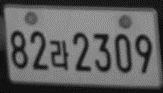0: (115, 33, 132, 73)
2: (72, 31, 91, 71), (29, 30, 48, 69)
3: (92, 33, 111, 72)
8: (10, 29, 28, 69)
9: (135, 34, 153, 74)
라: (48, 39, 70, 70)
